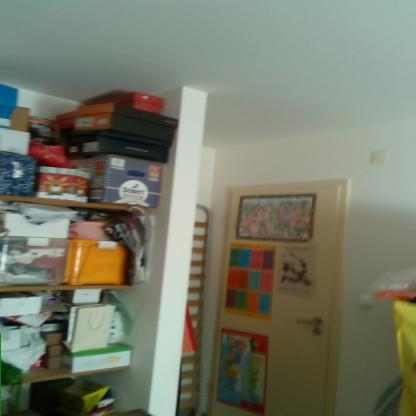closed: (208, 177, 357, 416)
